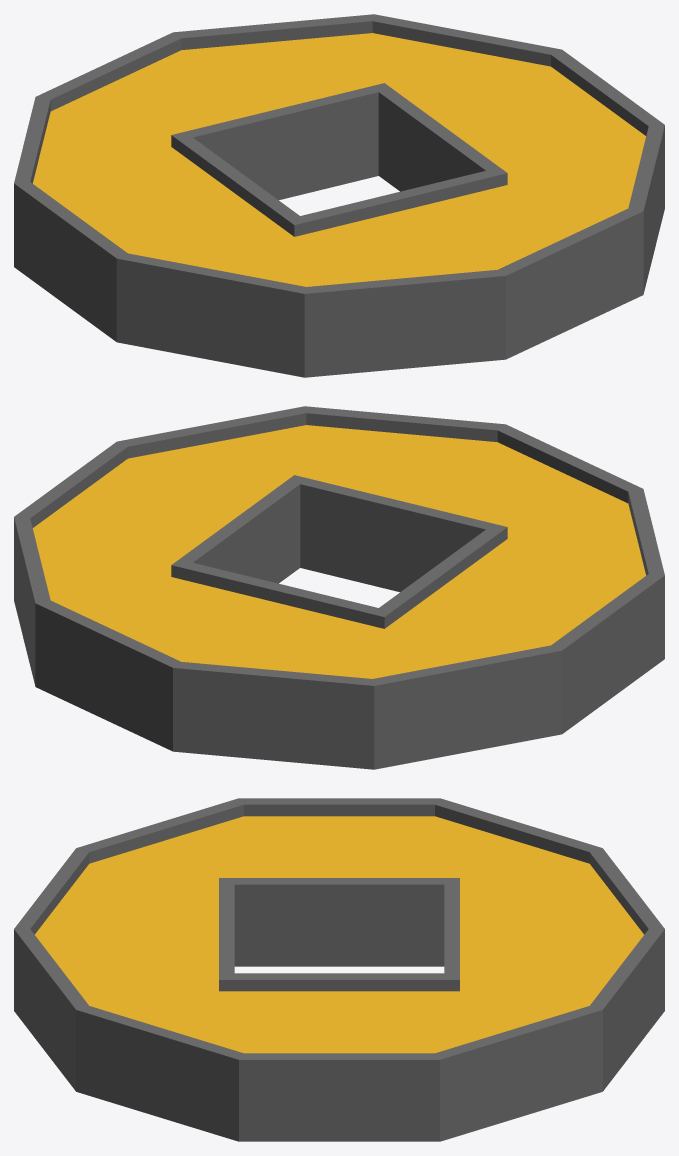
The model's file is Coin.fbx.
3 renders of one model, top to bottom at view 1: azimuth 30°, elevation 25°; view 2: azimuth 150°, elevation 25°; view 3: azimuth 270°, elevation 25°, orthographic. The views are drawn at different scales.
Parts seen in each view (by area): view 1: Cylinder.001; view 2: Cylinder.001; view 3: Cylinder.001.
Part boxes in pixels (<box>): Cylinder.001: <box>14,14,664,377</box>; Cylinder.001: <box>14,406,664,769</box>; Cylinder.001: <box>14,798,664,1141</box>.
Size of the model in its own units: 259 by 37.76 by 272.
